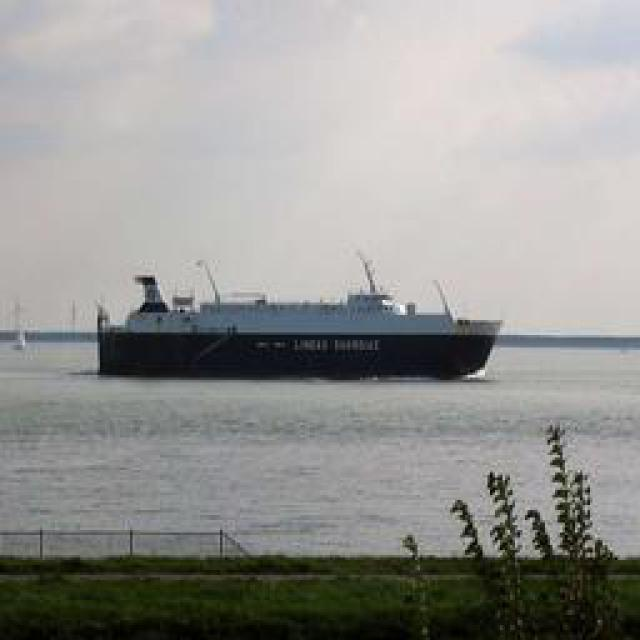Ship: (99, 265, 502, 383)
